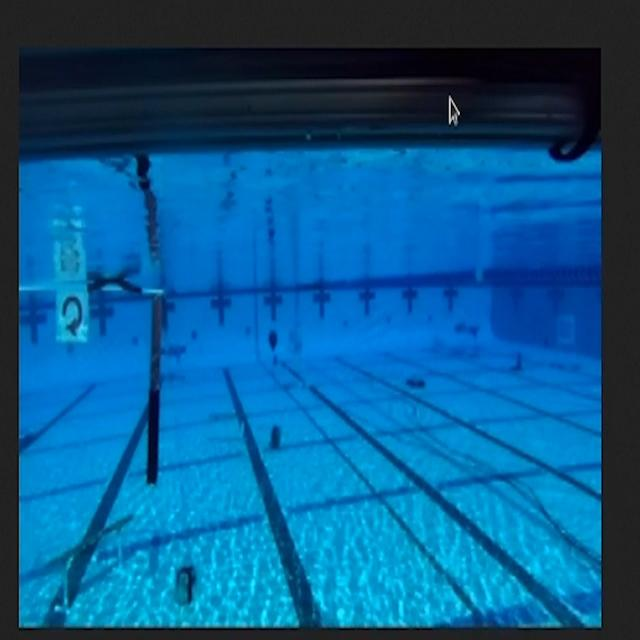Gate: (24, 278, 164, 484)
